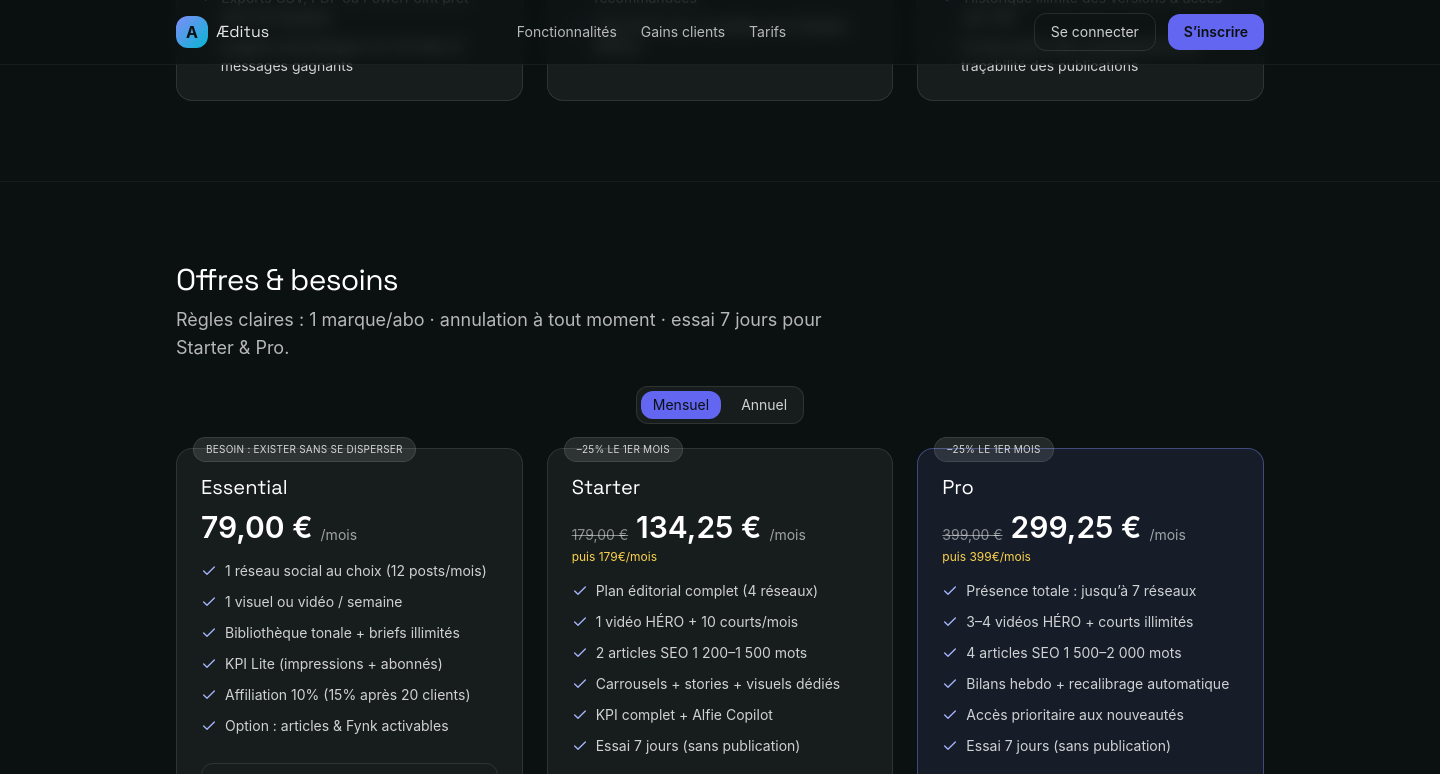
Scenario: NewLandingPage › bascule vers la tarification annuelle
(page scrolled)
Click the button "Annuel": click(764, 405) [729,391,799,419]
(page scrolled)
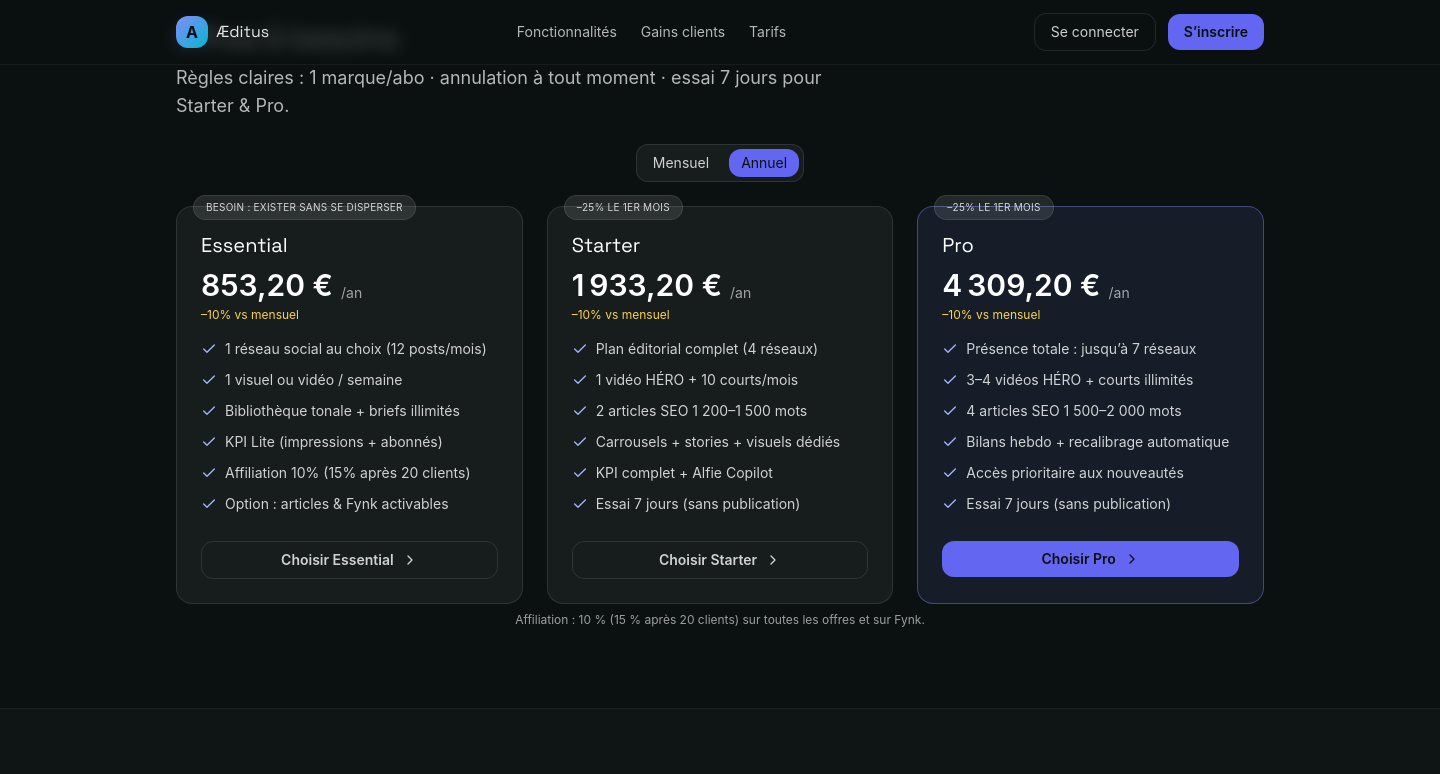
Result: the element with test id "price-pro" shows "–10% vs mensuel" at [942,307,1040,322]
